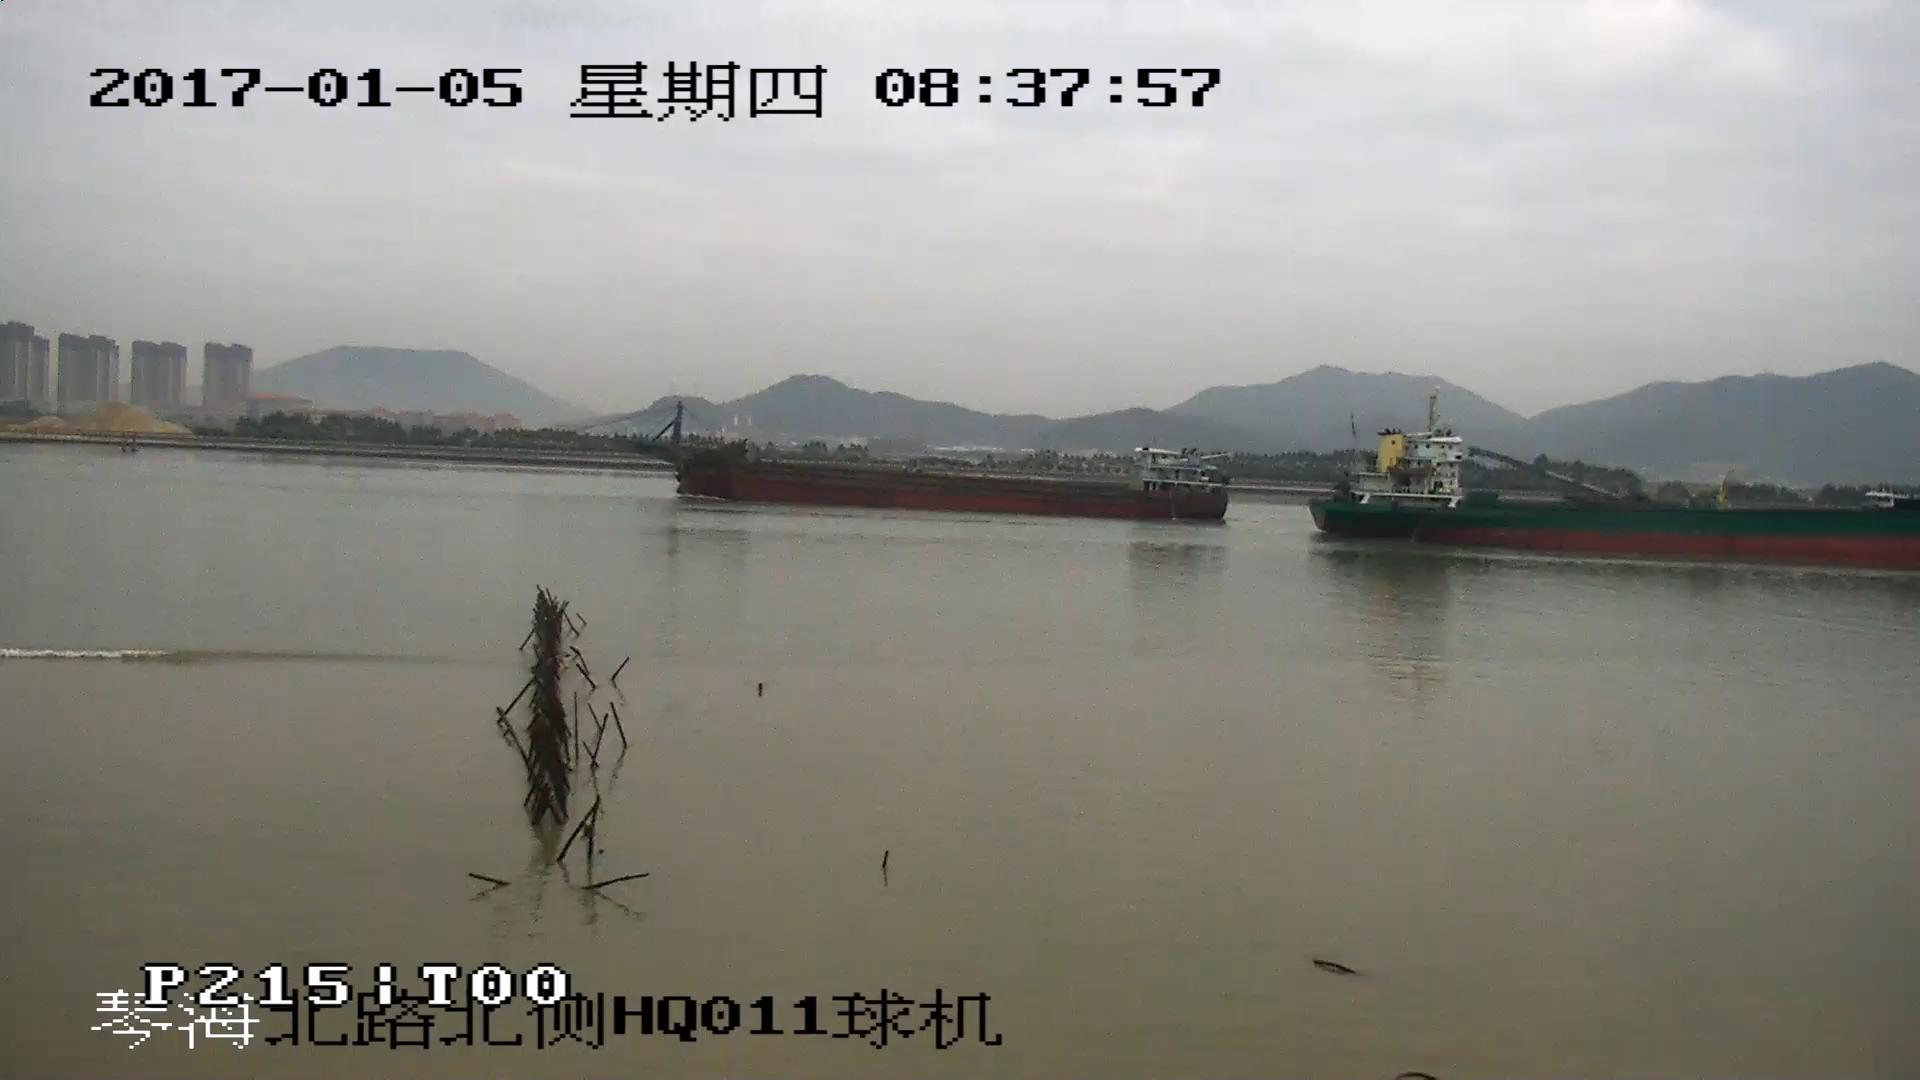Ship: (1315, 404, 1920, 564), (591, 411, 1228, 524)
